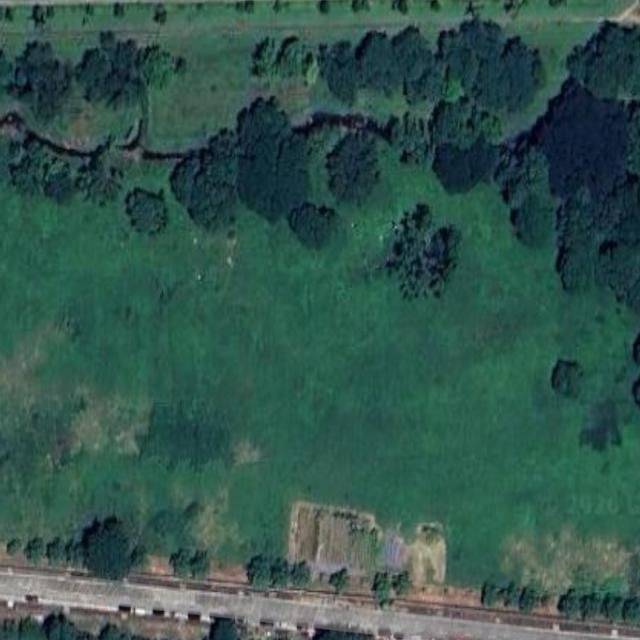Tree: (528, 79, 633, 200), (242, 138, 312, 228), (568, 22, 640, 106), (475, 37, 541, 112), (554, 201, 606, 292), (326, 130, 381, 207), (14, 44, 71, 116), (430, 141, 499, 192), (82, 521, 134, 582), (190, 172, 238, 235), (89, 68, 148, 118), (386, 20, 433, 82), (233, 94, 291, 144), (430, 99, 484, 152), (508, 144, 550, 212), (440, 23, 505, 64), (516, 190, 557, 251), (319, 41, 359, 102), (360, 28, 398, 91), (204, 135, 247, 188), (99, 28, 142, 78), (128, 187, 166, 239), (86, 158, 124, 210), (294, 204, 336, 248), (169, 550, 214, 586), (75, 46, 112, 88), (441, 55, 477, 97), (143, 45, 175, 91), (173, 161, 202, 211), (553, 356, 586, 398), (440, 230, 467, 278), (10, 161, 44, 198), (248, 550, 272, 594), (252, 40, 279, 78), (281, 37, 305, 74), (368, 571, 390, 607), (578, 591, 602, 624), (47, 176, 77, 202), (386, 116, 410, 148), (554, 590, 578, 621), (414, 201, 436, 234), (48, 538, 69, 570), (392, 566, 412, 599), (10, 137, 32, 167), (521, 584, 541, 616), (326, 566, 347, 596), (604, 596, 625, 626), (26, 534, 47, 563), (290, 565, 310, 595), (622, 594, 640, 624), (481, 581, 499, 610), (66, 544, 85, 570), (274, 556, 288, 588), (501, 583, 519, 606), (174, 55, 192, 78), (6, 539, 20, 560)
